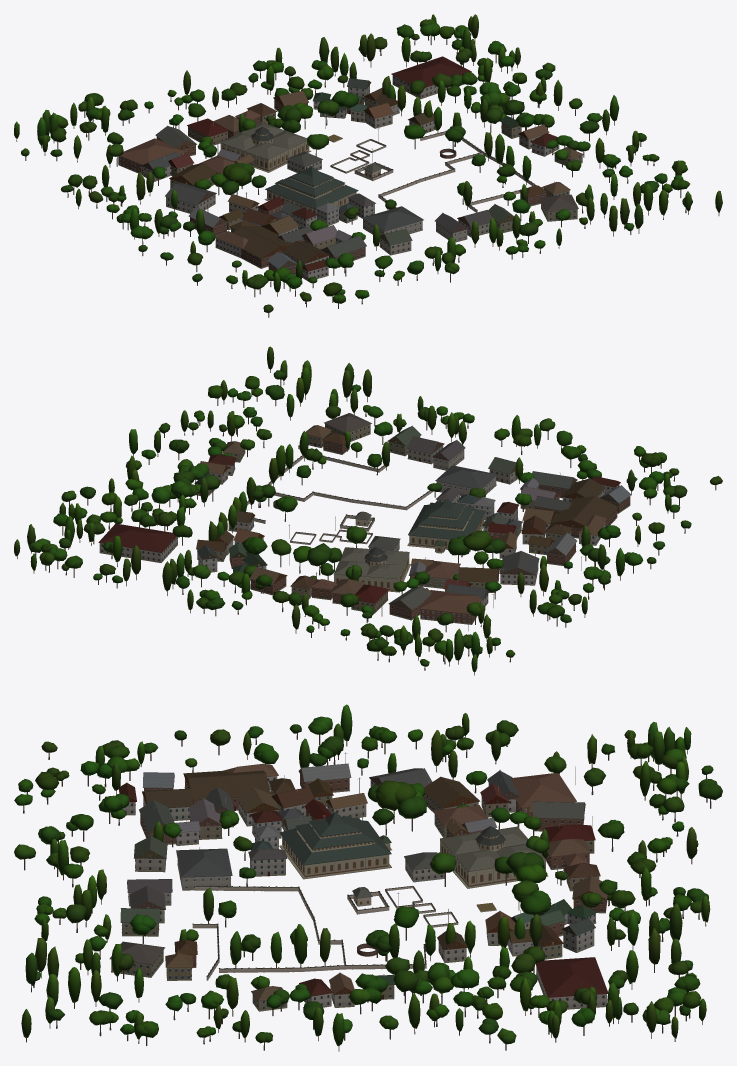
File: imambargah-hassanabad.glb
The picture shows the model from 3 angles, top to bottom: view 1: azimuth 30°, elevation 25°; view 2: azimuth 150°, elevation 25°; view 3: azimuth 270°, elevation 25°; orthographic projection. The views are drawn at different scales.
Visible parts, largest first — view 1: web Trees, web Houses, web Landmarks; view 2: web Trees, web Houses, web Landmarks; view 3: web Trees, web Houses, web Landmarks.
Boxes of the visible parts, x1,y1,x2,y2 form: web Trees: (14, 14, 722, 317); web Houses: (118, 56, 583, 281); web Landmarks: (220, 122, 543, 213); web Trees: (14, 346, 722, 675); web Houses: (98, 413, 631, 624); web Landmarks: (247, 445, 485, 592); web Trees: (14, 704, 722, 1051); web Houses: (109, 763, 607, 1011); web Landmarks: (192, 811, 548, 980).
Bounding box in the file's own units: 315 × 22.67 × 297.
30 materials, 26 textured.
